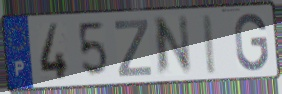4: (38, 22, 71, 83)
5: (74, 19, 110, 80)
G: (233, 11, 270, 73)
I: (200, 13, 219, 77)
N: (153, 13, 194, 79)
Z: (113, 17, 153, 79)
